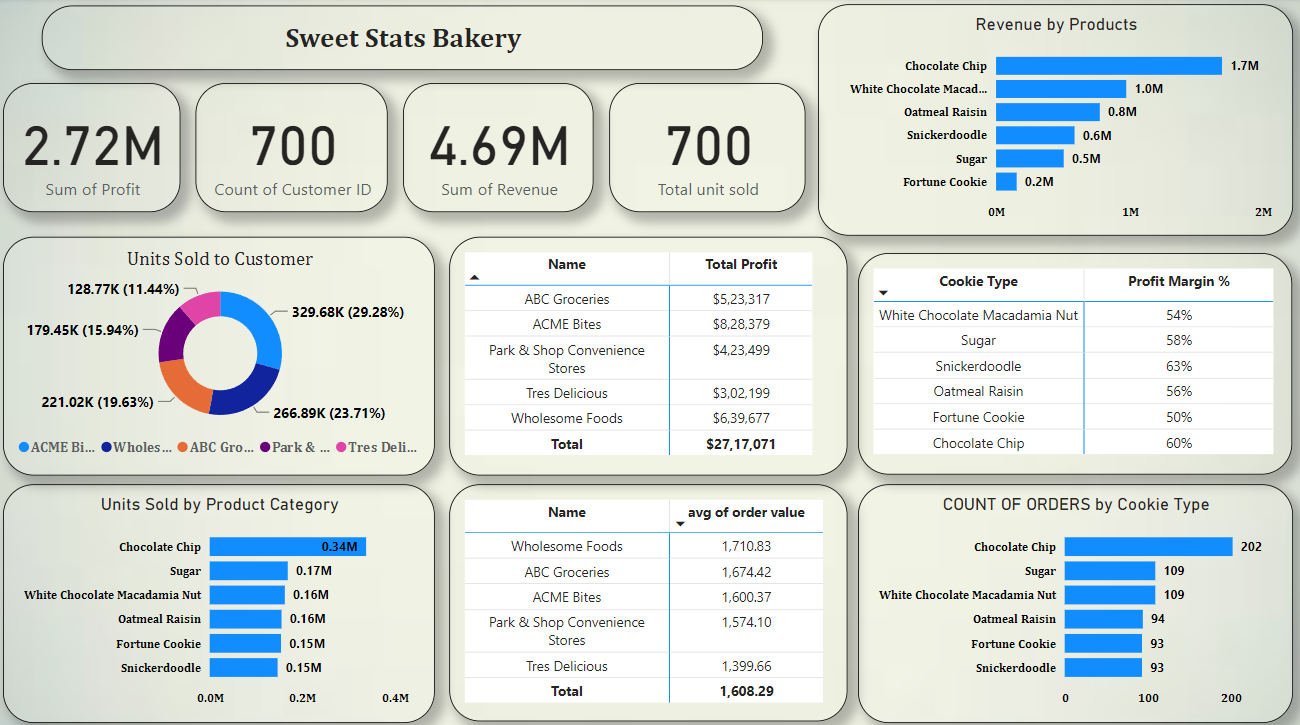

This screenshot's page, from the dashboard's own definition file:
{"tool":"powerbi","page":{"name":"Page 1","canvas":[1280,720],"ordinal":0},"visuals":[{"type":"pivotTable","fields":{"Rows":["Customers.Name"],"Values":["Orders.Total Number Of Unit Sold"]},"box":[441.9,476.2,389.7,231.9],"z":0},{"type":"pivotTable","fields":{"Values":["Orders.Total Profit"],"Rows":["Customers.Name"]},"box":[441.9,233.3,389.7,233.3],"z":1000},{"type":"pivotTable","fields":{"Values":["Orders.Profit Margin %"],"Rows":["Cookie Types.Cookie Type"]},"box":[841.7,250,425,216.7],"z":2000},{"type":"card","fields":{"Values":["Orders.Total number of unit sold"]},"box":[598.3,83.3,191.7,126.7],"z":3000},{"type":"barChart","title":" Units Sold by Product Category","fields":{"Y":["Sum(Orders.Units Sold)"],"Category":["Orders.Product"]},"box":[5.5,476.2,422.6,233.3],"z":4000},{"type":"donutChart","title":" Units Sold to Customer","fields":{"Category":["Customers.Name"],"Y":["Sum(Orders.Units Sold)"]},"box":[5.5,233.3,422.6,233.3],"z":5000},{"type":"barChart","fields":{"Y":["Orders.COUNT OF ORDERS"],"Category":["Cookie Types.Cookie Type"]},"box":[841.2,476.2,425.4,233.3],"z":6000},{"type":"barChart","title":" Revenue by Products","fields":{"Category":["Orders.Product"],"Y":["Sum(Orders.Revenue)"]},"box":[801.7,6.7,465,226.7],"z":7000},{"type":"card","fields":{"Values":["Sum(Orders.Profit)"]},"box":[5,83.3,173.3,126.7],"z":8000},{"type":"card","fields":{"Values":["CountNonNull(Orders.Customer ID)"]},"box":[193.3,83.3,188.3,126.7],"z":9000},{"type":"card","fields":{"Values":["Sum(Orders.Revenue)"]},"box":[396.7,83.3,186.7,126.7],"z":10000},{"type":"textbox","box":[42.9,7.1,705.7,62.9],"z":11000}]}

Visuals, with their boxes in screenshot pixels (x1, y1, x2, y2), scaled from the page's 1280x720 canvas onto the 1300x725 screenshot:
pivotTable - Customers.Name x Orders.Total Number Of Unit Sold: [left=449, top=480, right=845, bottom=713]
pivotTable - Orders.Total Profit x Customers.Name: [left=449, top=235, right=845, bottom=470]
pivotTable - Orders.Profit Margin % x Cookie Types.Cookie Type: [left=855, top=252, right=1286, bottom=470]
card - Orders.Total number of unit sold: [left=608, top=84, right=802, bottom=211]
" Units Sold by Product Category" barChart: [left=6, top=480, right=435, bottom=714]
" Units Sold to Customer" donutChart: [left=6, top=235, right=435, bottom=470]
barChart - Orders.COUNT OF ORDERS x Cookie Types.Cookie Type: [left=854, top=480, right=1286, bottom=714]
" Revenue by Products" barChart: [left=814, top=7, right=1286, bottom=235]
card - Sum(Orders.Profit): [left=5, top=84, right=181, bottom=211]
card - CountNonNull(Orders.Customer ID): [left=196, top=84, right=388, bottom=211]
card - Sum(Orders.Revenue): [left=403, top=84, right=593, bottom=211]
textbox: [left=44, top=7, right=760, bottom=70]
